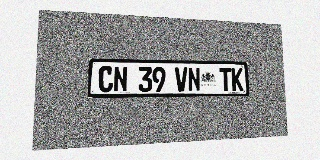3: (139, 67, 152, 92)
9: (152, 67, 166, 92)
C: (98, 66, 113, 92)
K: (231, 68, 243, 91)
N: (113, 66, 128, 92), (188, 67, 200, 91)
T: (219, 68, 232, 91)
V: (175, 67, 188, 92)
